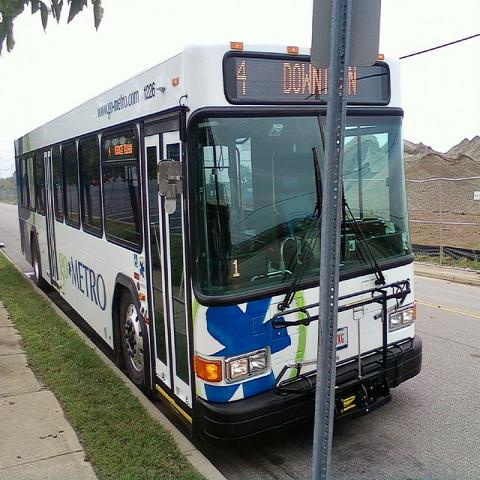bus: (15, 47, 422, 442)
